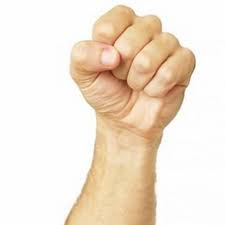fist: (86, 15, 182, 138)
